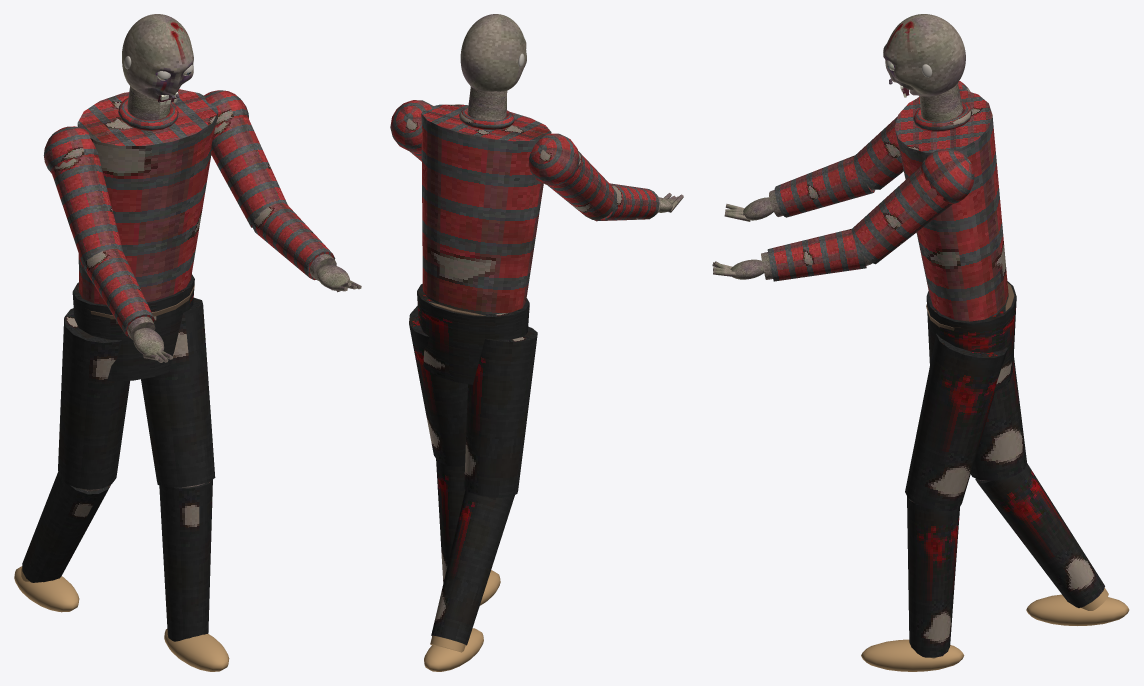
The model's file is Zombie_012.glb.
3 renders of one model, left to right at view 1: azimuth 30°, elevation 25°; view 2: azimuth 150°, elevation 25°; view 3: azimuth 270°, elevation 25°, orthographic. The views are drawn at different scales.
Parts seen in each view (by area): view 1: Zombie_012, object 18, object 4, object 12, object 5, object 13; view 2: Zombie_012, object 18, object 4; view 3: Zombie_012, object 18, object 12, object 4.
Part boxes in pixels (x1,y1,x2,y2): Zombie_012: (14,86,287,671); object 18: (122,14,193,100); object 4: (83,249,155,337); object 12: (252,202,335,280); object 5: (133,328,164,354); object 13: (317,265,349,289); Zombie_012: (390,86,616,671); object 18: (460,14,526,91); object 4: (594,183,659,221); Zombie_012: (851,81,1129,671); object 18: (883,14,965,96); object 12: (767,228,866,281); object 4: (774,155,875,217).
Bounding box in the file's own units: 0.6494 × 1.96 × 1.16.
Materials: 15 (5 with a texture image).
